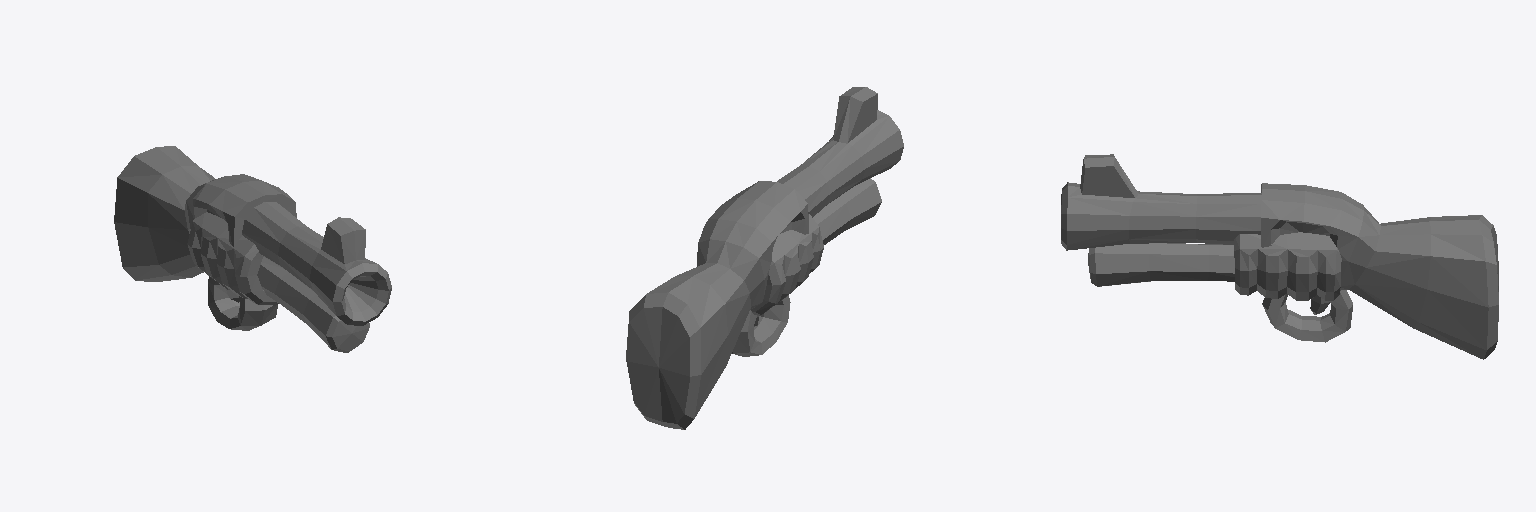
The model's file is Shotgun.obj.
The picture shows the model from 3 angles: view 1: azimuth 30°, elevation 25°; view 2: azimuth 150°, elevation 25°; view 3: azimuth 270°, elevation 25°; orthographic projection.
Visible parts, largest first — view 1: Inst3D_RefRep.235_Ref; view 2: Inst3D_RefRep.235_Ref; view 3: Inst3D_RefRep.235_Ref.
Boxes of the visible parts, box(x1,y1,x2,y2) form: Inst3D_RefRep.235_Ref: box(114, 146, 391, 352); Inst3D_RefRep.235_Ref: box(626, 87, 903, 429); Inst3D_RefRep.235_Ref: box(1061, 154, 1498, 359).
Bounding box in the file's own units: 0.9957 × 2.29 × 4.59.